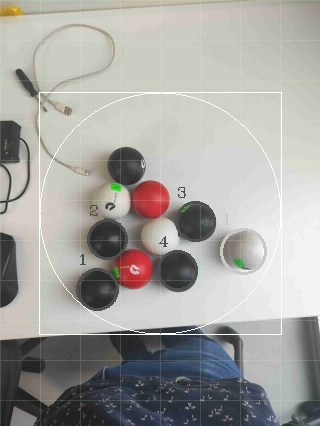Pelota blanca: (28, 23, 115, 102), (217, 228, 267, 275), (159, 249, 198, 294), (90, 180, 131, 222), (140, 217, 179, 256)
Pelota negra: (7, 334, 281, 425), (74, 268, 121, 312), (87, 217, 129, 262), (175, 198, 217, 243), (159, 249, 198, 294), (106, 145, 147, 187)
Pelota roja: (113, 246, 153, 291), (129, 180, 171, 219)
